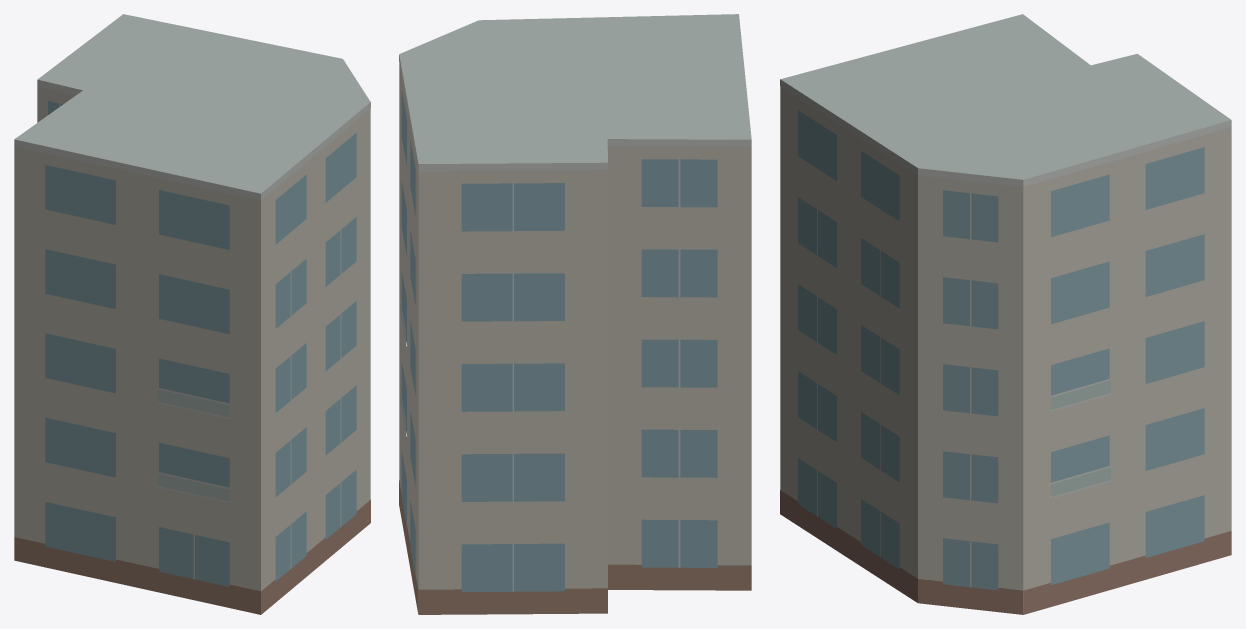
The model's file is survey-upis-32887386.glb.
3 renders of one model, left to right at view 1: azimuth 30°, elevation 25°; view 2: azimuth 150°, elevation 25°; view 3: azimuth 270°, elevation 25°, orthographic. The views are drawn at different scales.
Parts seen in each view (by area): view 1: survey-upis-32887386.tmp; view 2: survey-upis-32887386.tmp; view 3: survey-upis-32887386.tmp.
Part boxes in pixels (left/top/right/bottom): survey-upis-32887386.tmp: left=14, top=14, right=370, bottom=614; survey-upis-32887386.tmp: left=399, top=14, right=751, bottom=614; survey-upis-32887386.tmp: left=780, top=14, right=1231, bottom=614.
Size of the model in its own units: 12.36 by 15.1 by 14.21.
